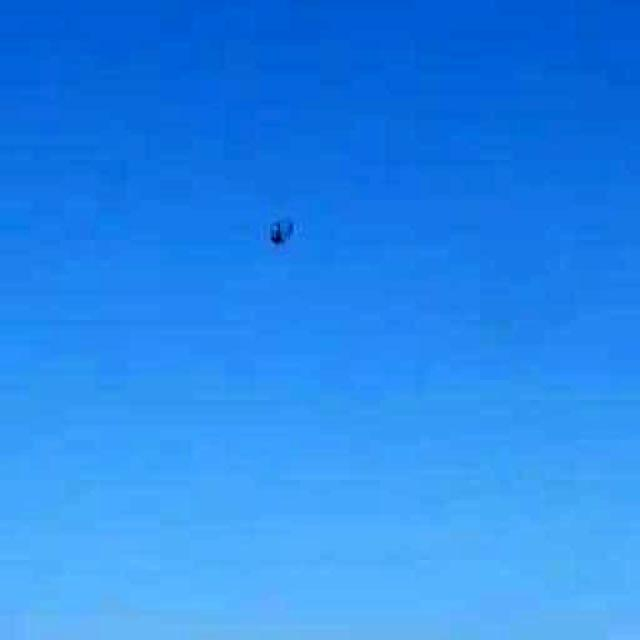drone: (240, 196, 316, 264)
